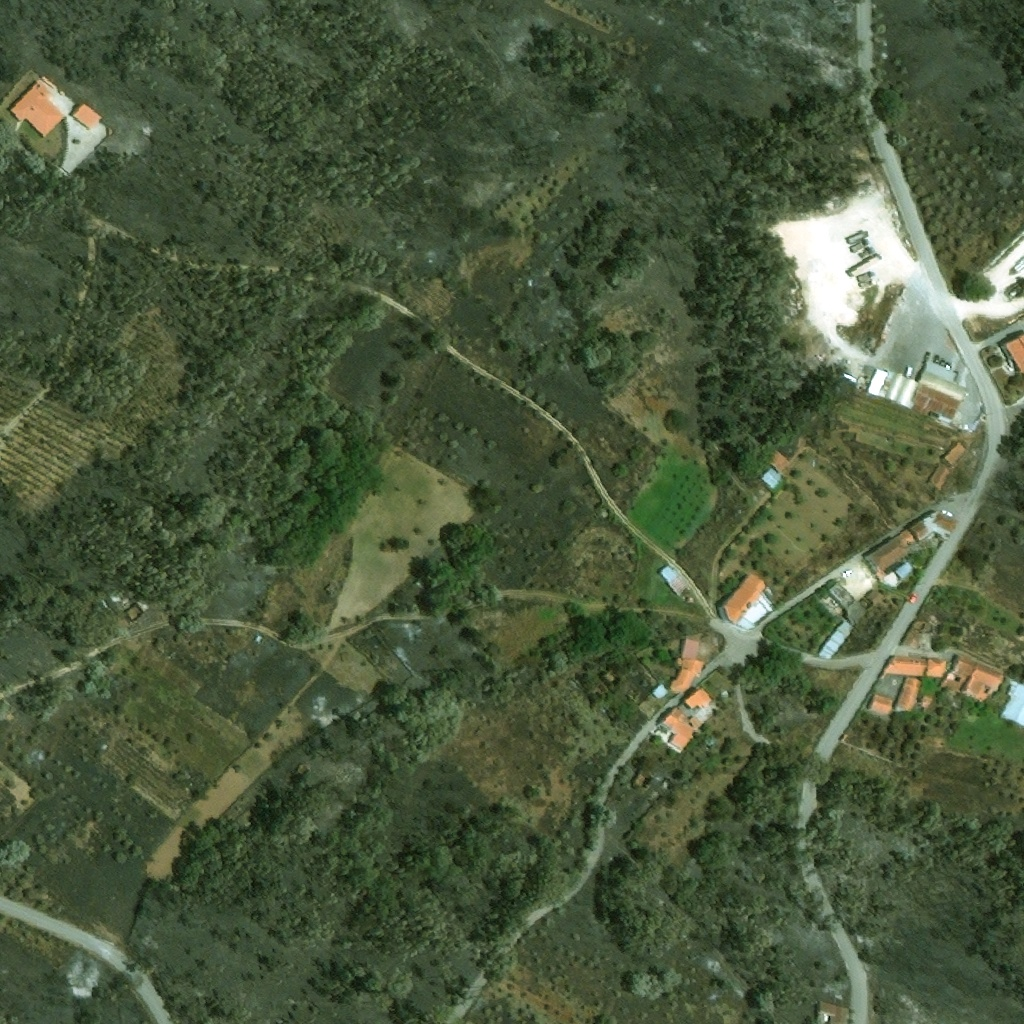0 no-damage: (868, 361, 968, 423), (10, 83, 63, 137), (866, 529, 919, 573), (722, 574, 766, 623), (959, 662, 1005, 703), (671, 639, 705, 693), (661, 707, 702, 749), (827, 582, 867, 624), (939, 656, 977, 692), (819, 620, 853, 660), (911, 511, 959, 539), (998, 680, 1023, 728), (892, 677, 922, 712), (883, 656, 927, 678), (658, 566, 688, 595), (72, 103, 102, 130), (901, 621, 928, 649), (818, 1001, 849, 1023), (685, 687, 712, 709), (867, 694, 892, 717), (761, 464, 783, 489), (767, 450, 790, 473), (860, 588, 884, 610), (945, 442, 966, 464), (929, 464, 948, 486), (925, 658, 945, 677), (895, 560, 914, 579), (882, 571, 900, 588), (651, 684, 668, 700), (255, 635, 261, 642)
3 destroyed: (120, 598, 147, 623), (635, 766, 654, 788), (704, 736, 718, 749)
4 un-classified: (1005, 334, 1023, 371)
